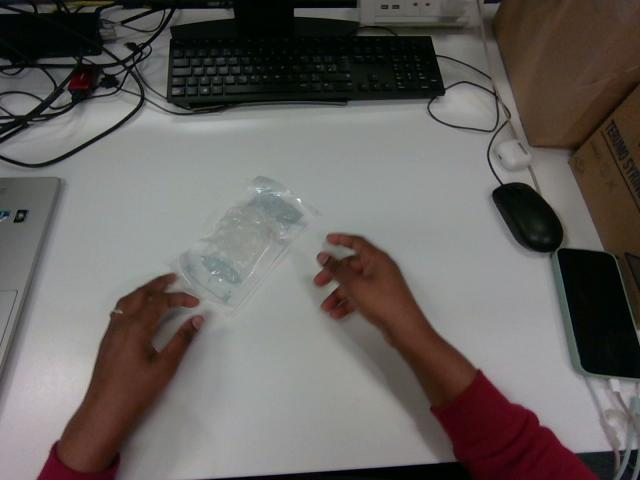gallipot: (176, 177, 317, 307)
